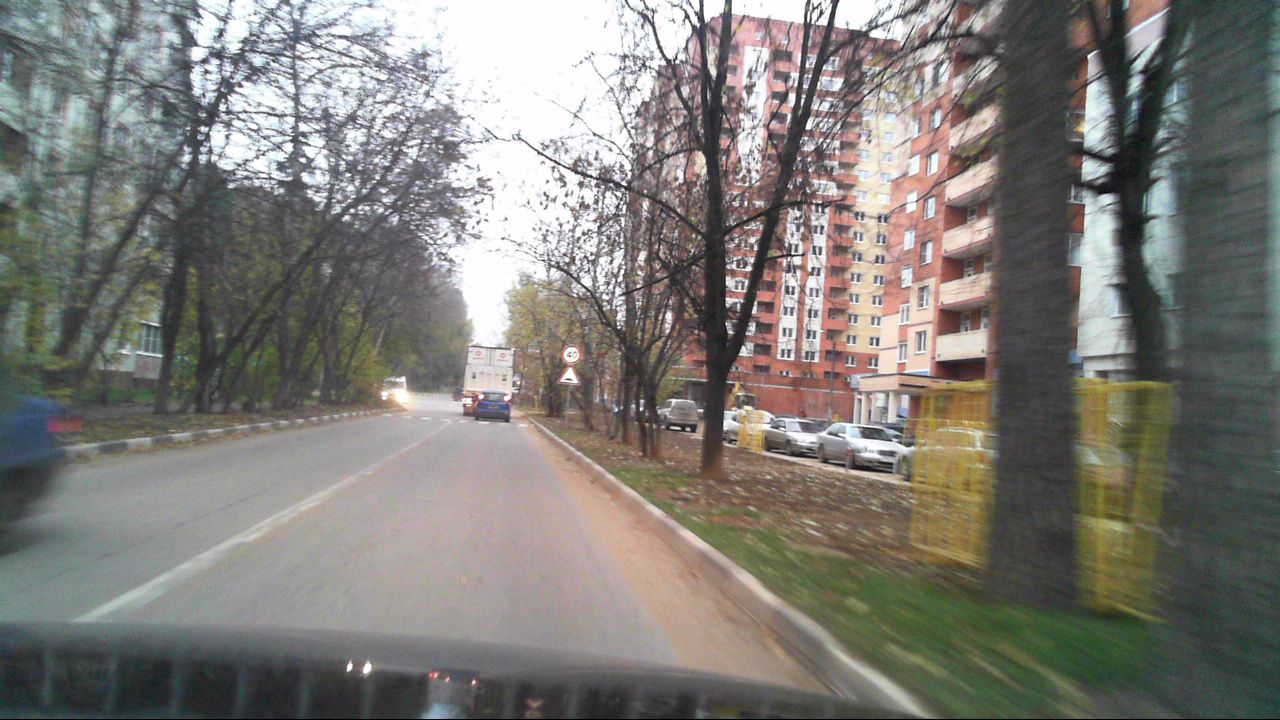speed_warning_40: (562, 345, 580, 363)
